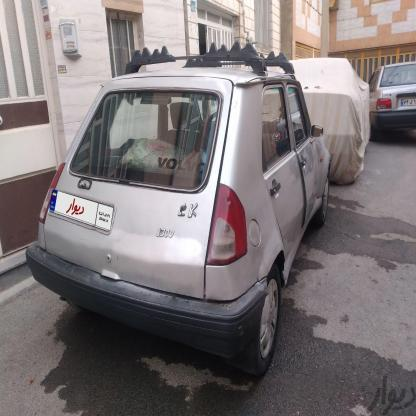Car: (33, 44, 337, 376), (363, 51, 416, 168)
